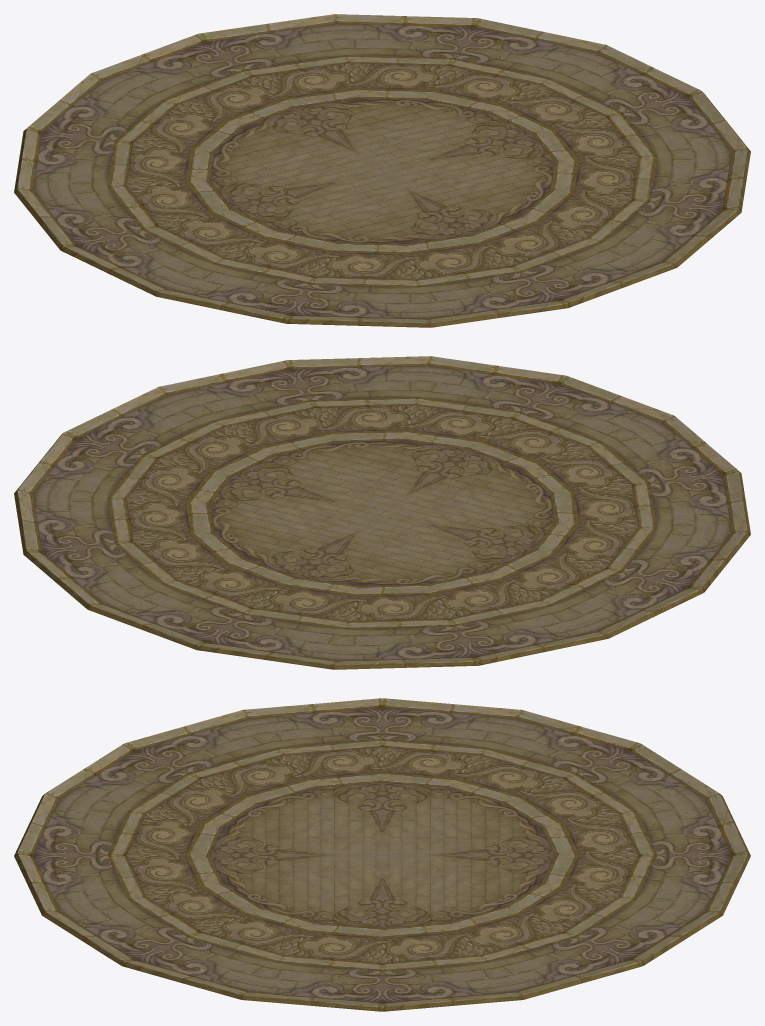
Rendered from 2_GaoLaoZhuang_ZhongXinYuanPan_01.FBX.
3 renders of one model, top to bottom at view 1: azimuth 30°, elevation 25°; view 2: azimuth 150°, elevation 25°; view 3: azimuth 270°, elevation 25°, orthographic.
Parts seen in each view (by area): view 1: 2_GaoLaoZhuang_ZhongXinYuanPan_01; view 2: 2_GaoLaoZhuang_ZhongXinYuanPan_01; view 3: 2_GaoLaoZhuang_ZhongXinYuanPan_01.
Boxes of the visible parts, <box> form: 2_GaoLaoZhuang_ZhongXinYuanPan_01: <box>14,14,750,327</box>; 2_GaoLaoZhuang_ZhongXinYuanPan_01: <box>14,356,750,669</box>; 2_GaoLaoZhuang_ZhongXinYuanPan_01: <box>14,698,750,1011</box>.
Bounding box in the file's own units: 2323 × 12.79 × 2323.
